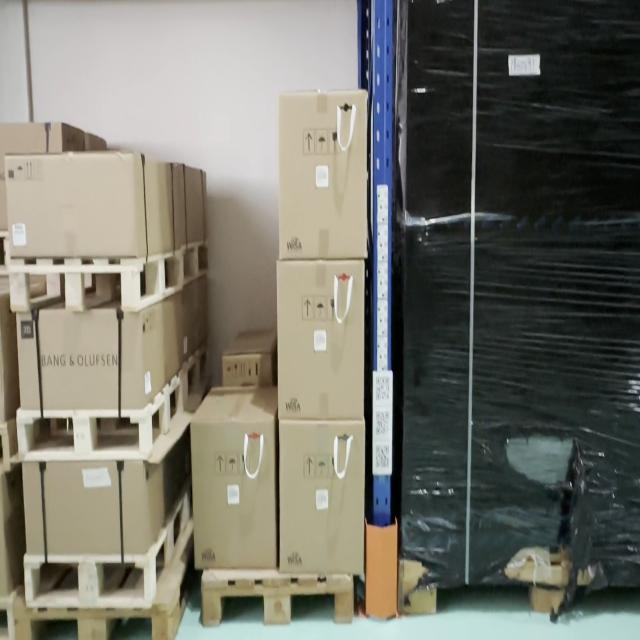box: (278, 261, 362, 421), (8, 157, 135, 259), (282, 100, 364, 256), (280, 427, 362, 571), (193, 428, 274, 570), (22, 463, 146, 554), (15, 324, 136, 406)
